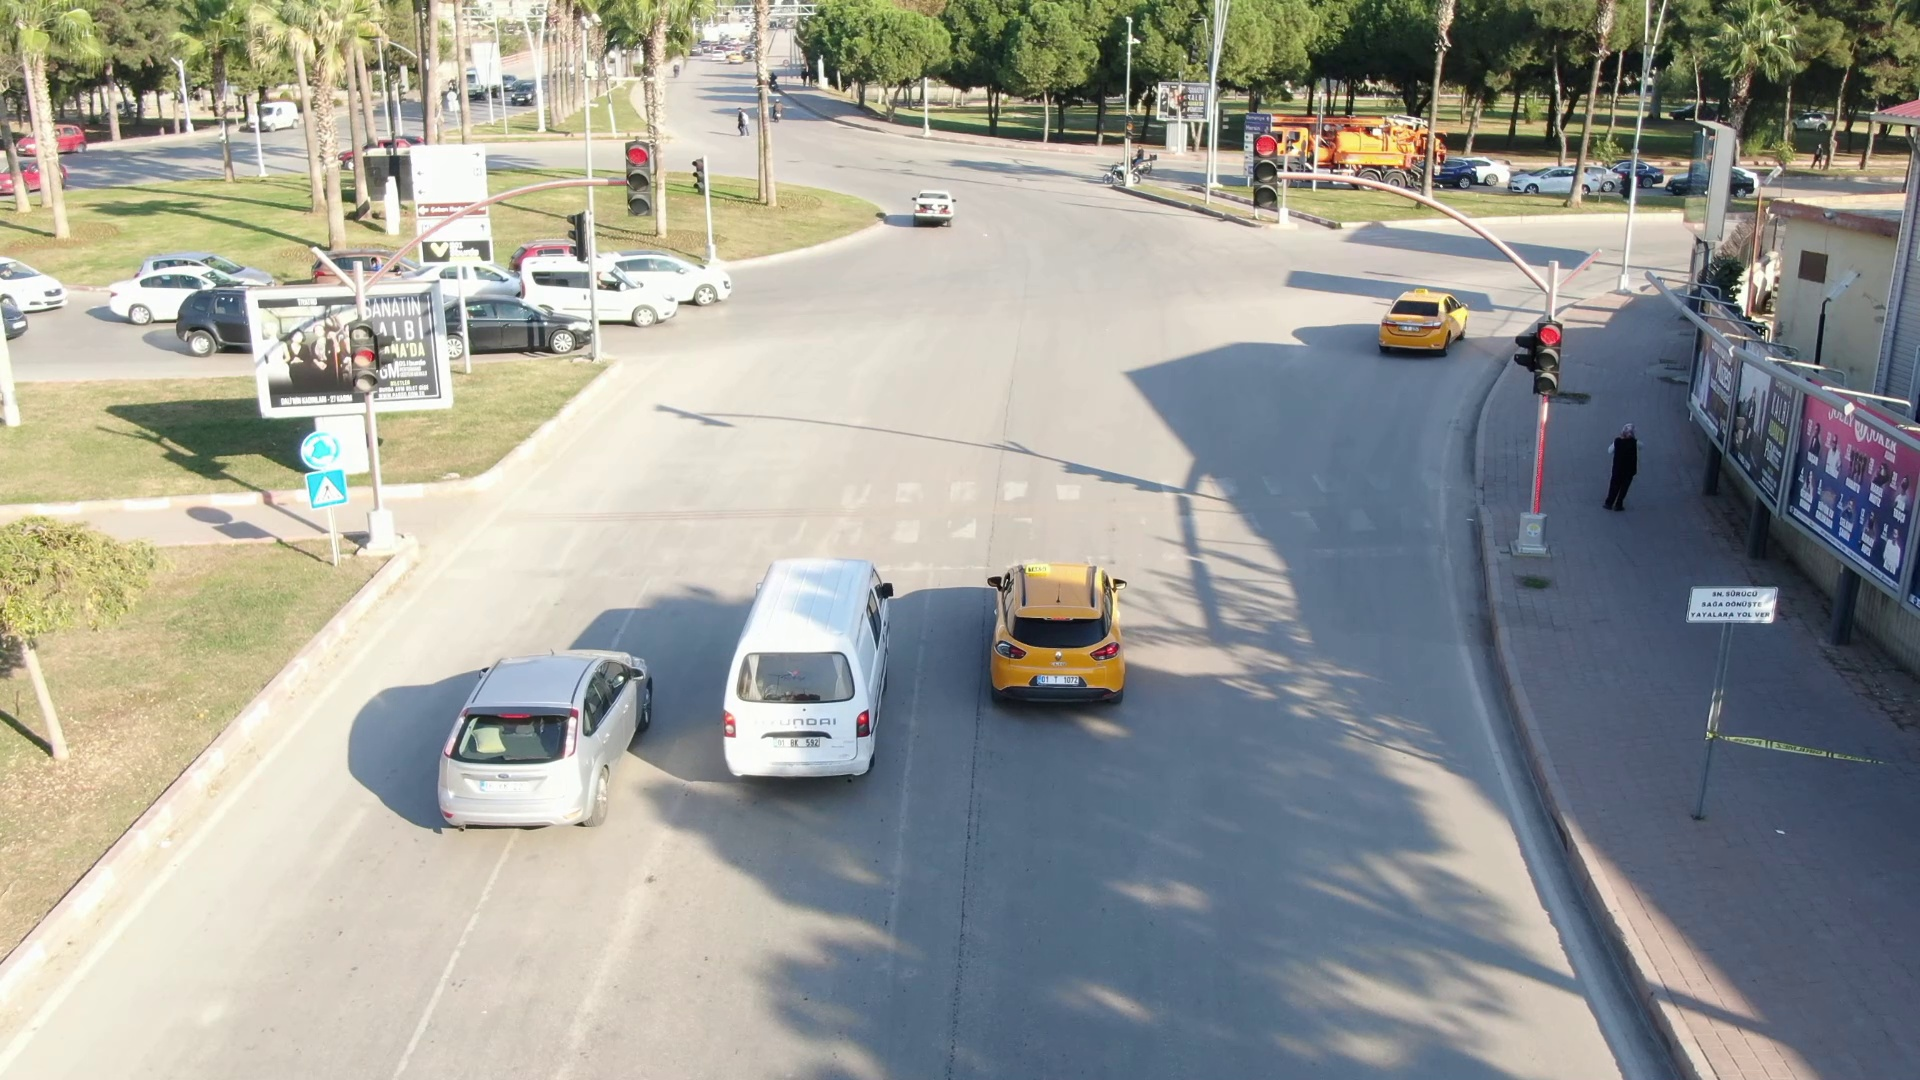car: (437, 639, 659, 833), (721, 557, 892, 786), (982, 561, 1133, 717), (455, 288, 598, 359), (527, 259, 674, 323), (1376, 284, 1480, 363), (96, 270, 245, 321), (608, 251, 733, 302), (172, 284, 257, 357), (408, 253, 525, 290), (4, 255, 66, 310), (910, 194, 951, 217)
person: (1600, 421, 1645, 517)
